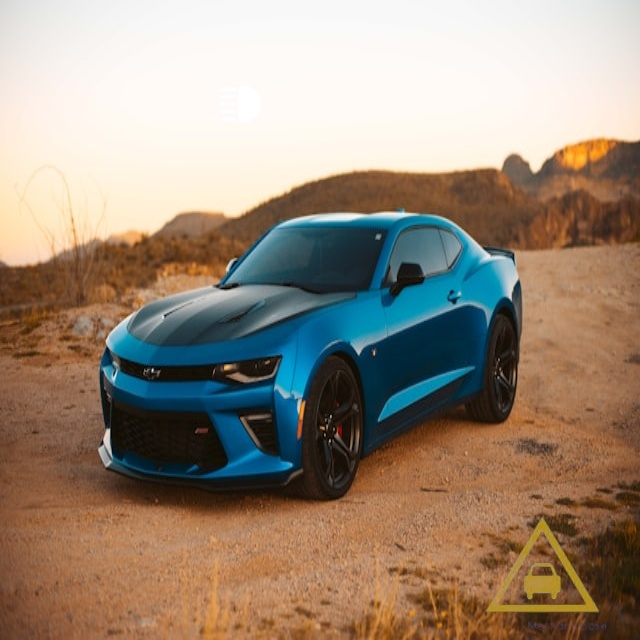symbol: (144, 14, 339, 209), (472, 497, 612, 637)
